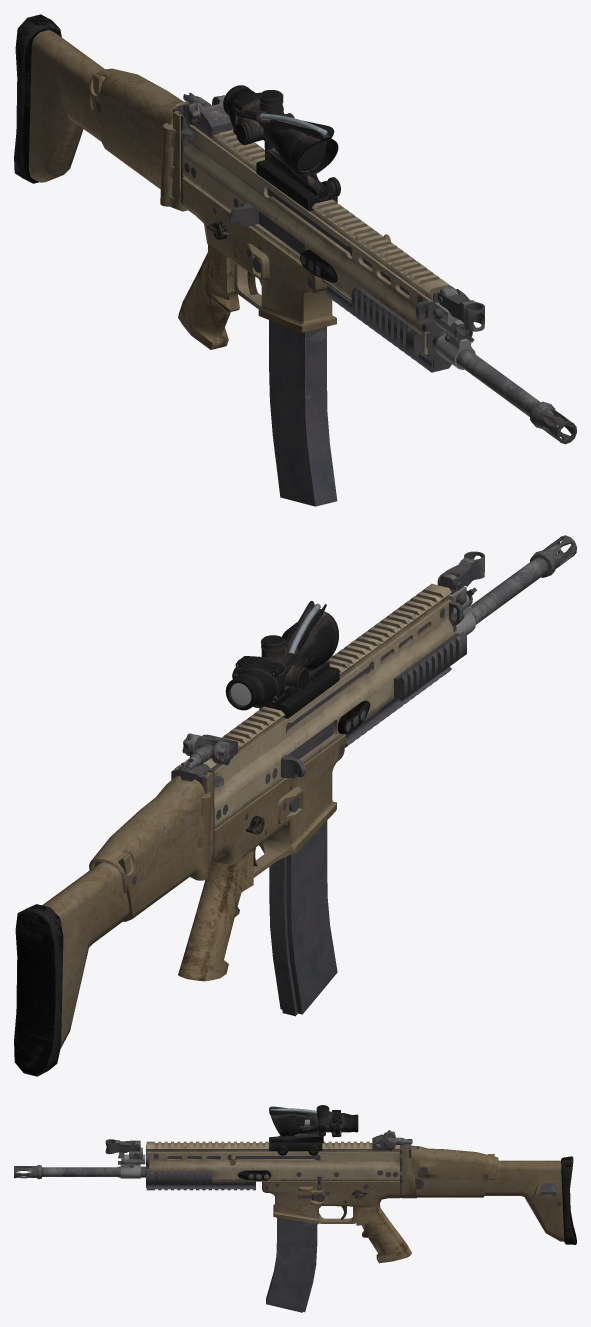
The model's file is Scar.obj.
3 views of the same model, one above another, from view 1: azimuth 30°, elevation 25°; view 2: azimuth 150°, elevation 25°; view 3: azimuth 270°, elevation 25° (orthographic). The views are drawn at different scales.
Visible parts, largest first — view 1: Scar; view 2: Scar; view 3: Scar.
Boxes of the visible parts, x1,y1,x2,y2 form: Scar: [14, 14, 576, 506]; Scar: [14, 535, 576, 1076]; Scar: [14, 1105, 576, 1312].
Bounding box in the file's own units: 6.09 × 33.73 × 84.79.
Materials: 3 (3 with a texture image).
